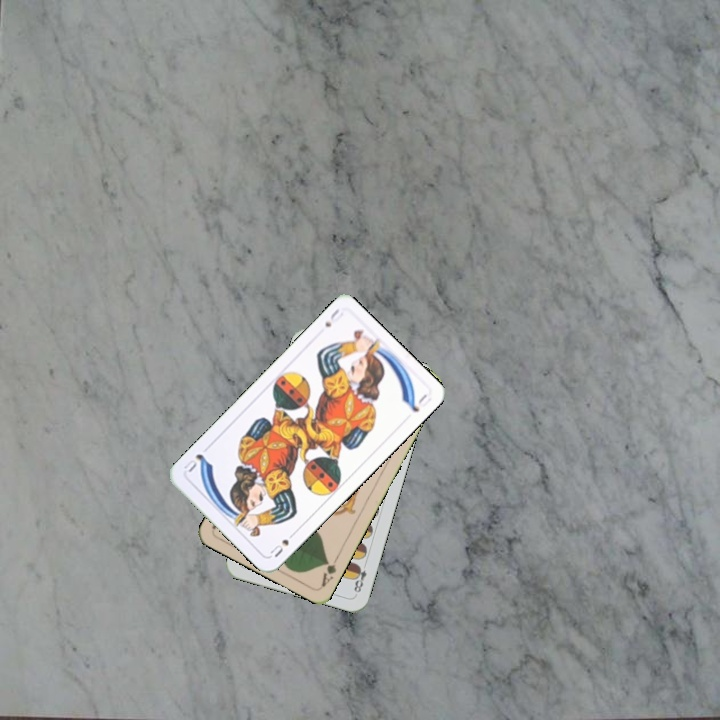E8: (350, 561, 369, 597)
GA: (317, 551, 342, 590)
SU: (266, 527, 299, 560), (321, 305, 346, 330)
